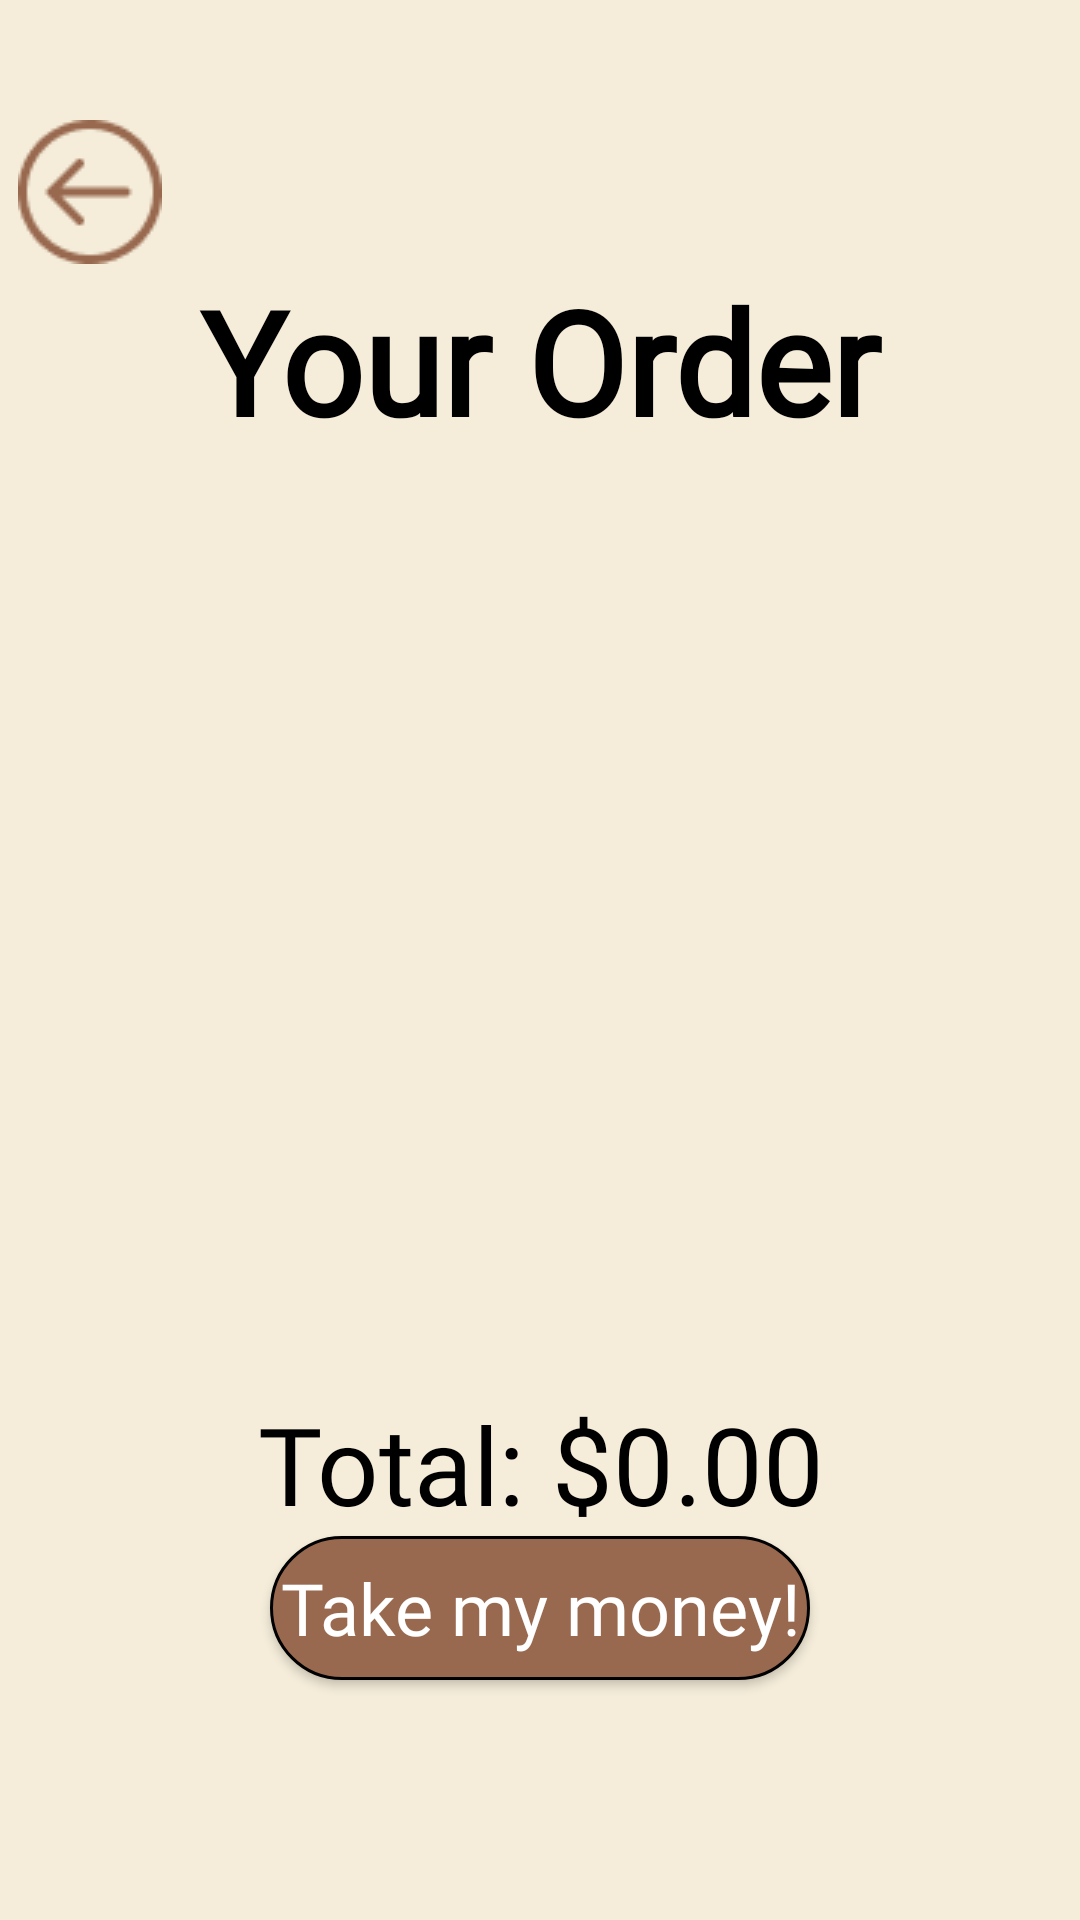

Icons on this 1080 × 1920 Android screen, each with its box as region(x1, y1, x2, y2):
back: region(18, 120, 162, 264)
